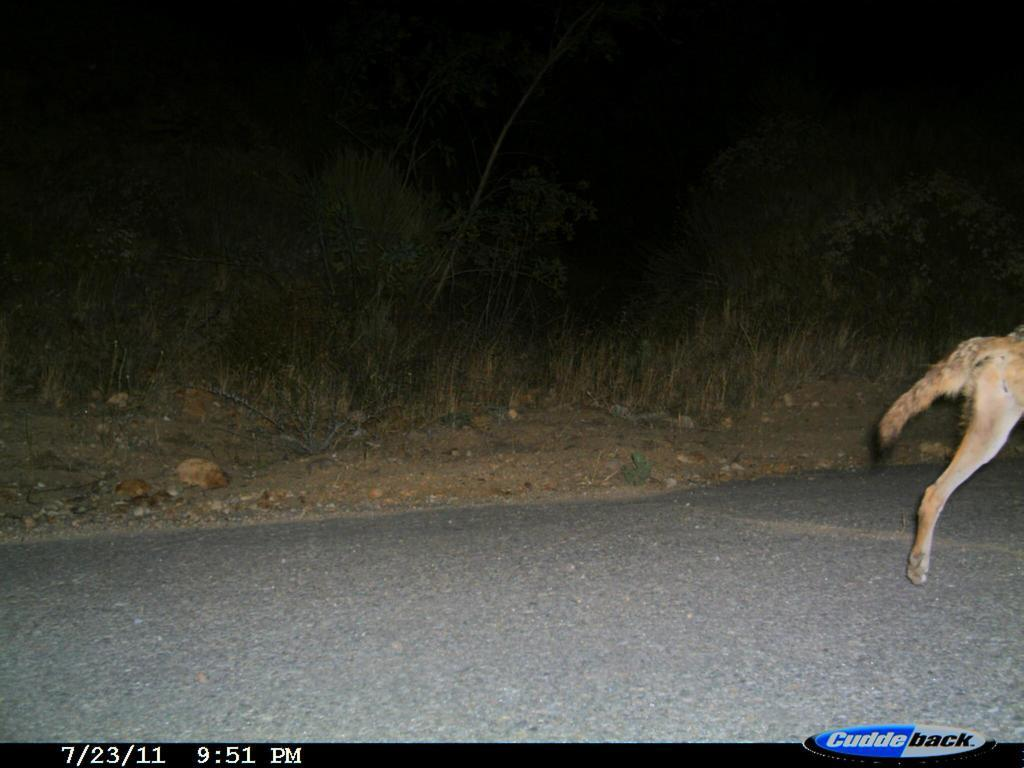coyote: (859, 313, 1023, 582)
